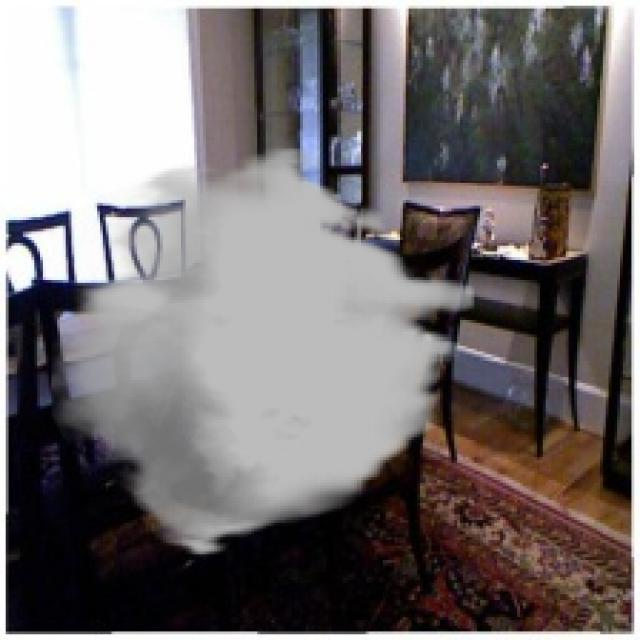Smoke: (52, 145, 474, 558)
